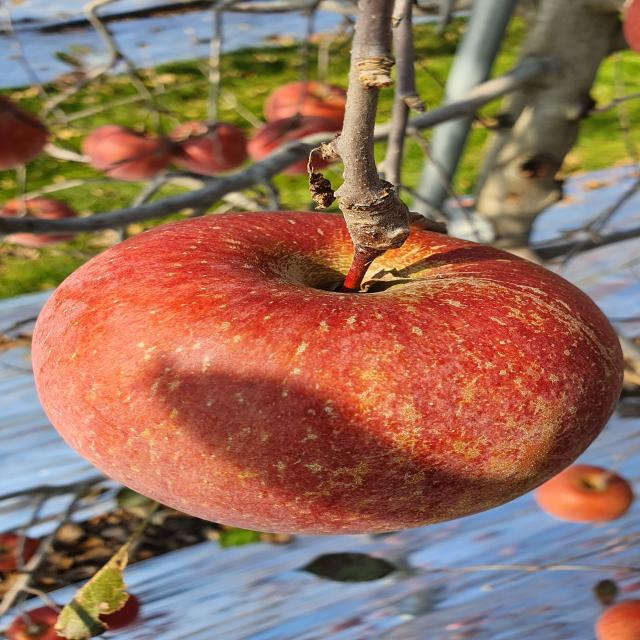fresh: (16, 203, 636, 543)
